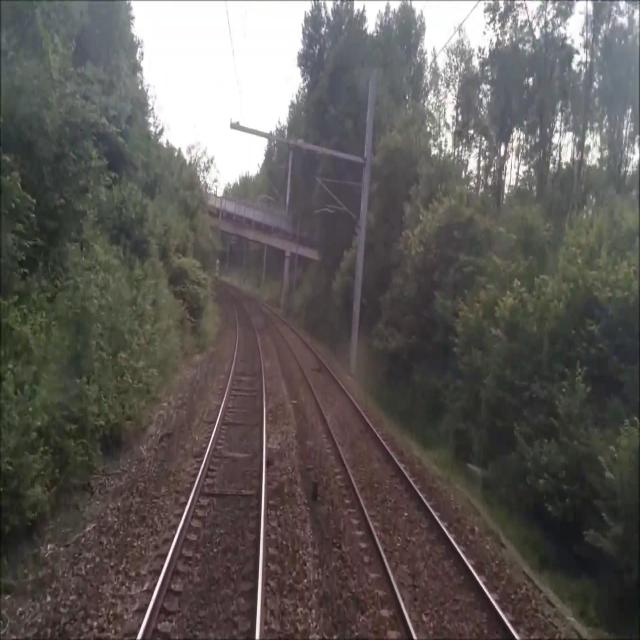rail-track: (242, 293, 514, 639), (141, 290, 262, 639)
